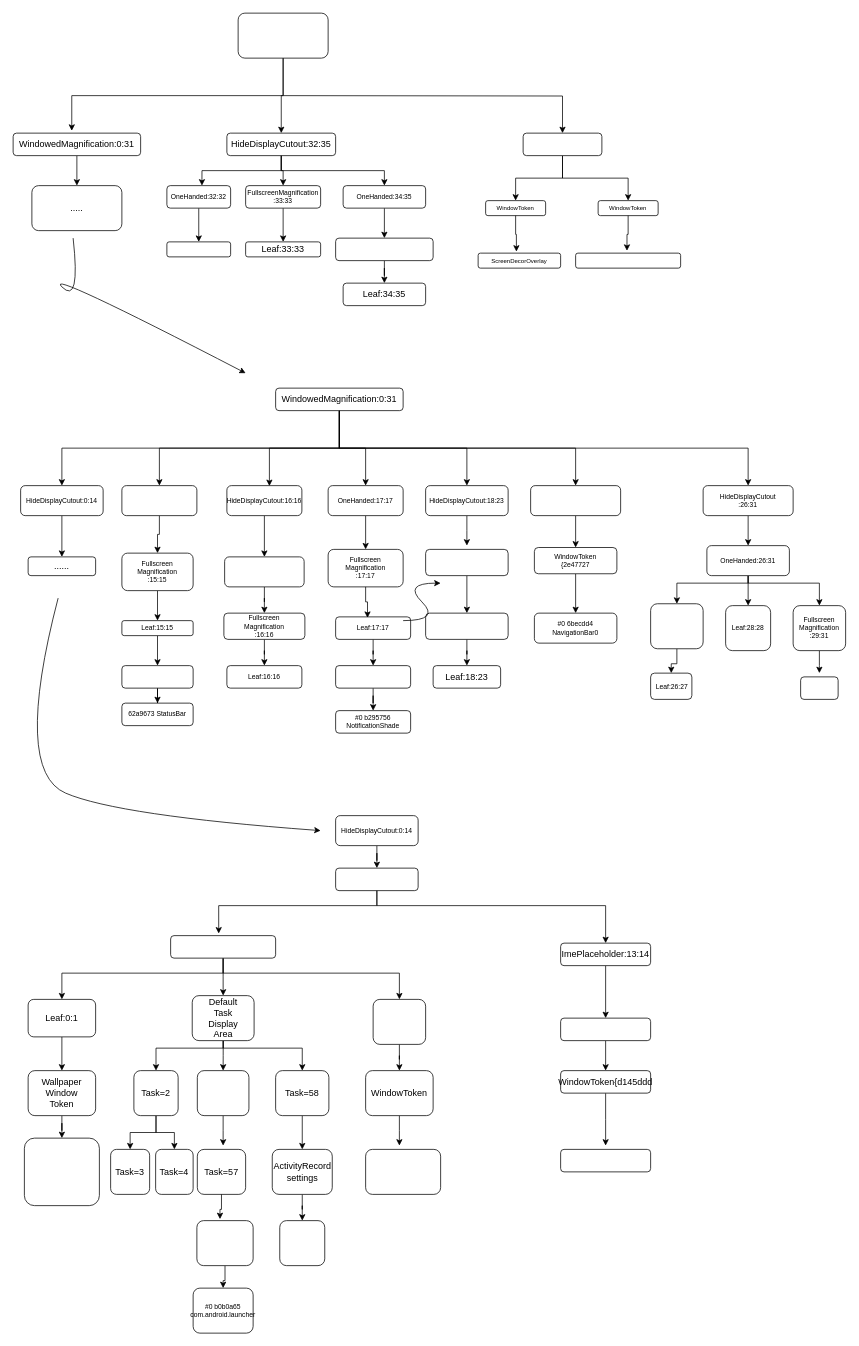
This 859x1346 diagram has some shape labels left out. Here are the shapes that lost their labels. From the top down, the box of each, then its label:
(237, 12, 328, 58): Display 0
(522, 132, 602, 156): Leaf:36:36
(166, 241, 231, 257): Leaf:32:32
(335, 237, 433, 261): FullscreenMagnification :34:35
(575, 252, 681, 268): ScreenDecorOverlayBottom
(121, 485, 197, 516): OneHanded:15:15
(530, 485, 621, 516): Leaf:24:25
(224, 556, 304, 587): OneHanded:16:16
(425, 549, 508, 576): OneHanded:18:23
(425, 612, 508, 639): Fullscreen Magnification :18:23
(650, 603, 703, 649): Fullscreen Magnification :26:27
(121, 665, 193, 688): WindowToken {67b92e2
(335, 665, 411, 688): WindowToken {8190d71
(800, 676, 838, 699): #0 Leaf:29:31
(335, 867, 418, 891): OneHanded:0:14
(170, 935, 276, 958): FullscreenMagnification :0:12
(372, 999, 426, 1044): Leaf :3:12
(560, 1017, 651, 1041): ImeContainer
(197, 1070, 249, 1116): Task=1
(24, 1137, 99, 1206): b174450 com.android. systemui. wallpapers. ImageWallpaper
(365, 1149, 441, 1194): 1c3d8d0 ShellDropTarget
(560, 1149, 651, 1172): #0 1835e68 InputMethod
(196, 1220, 253, 1266): ActivityRecord {3828356 launcher3
(279, 1220, 325, 1266): 397d788 com.android.settings
